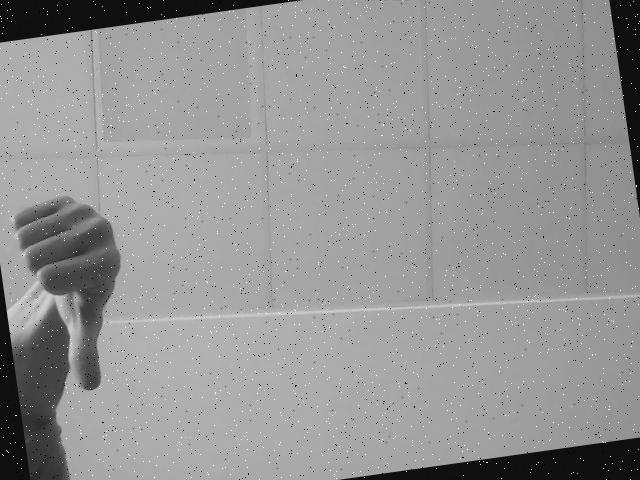bad: (0, 136, 184, 403)
